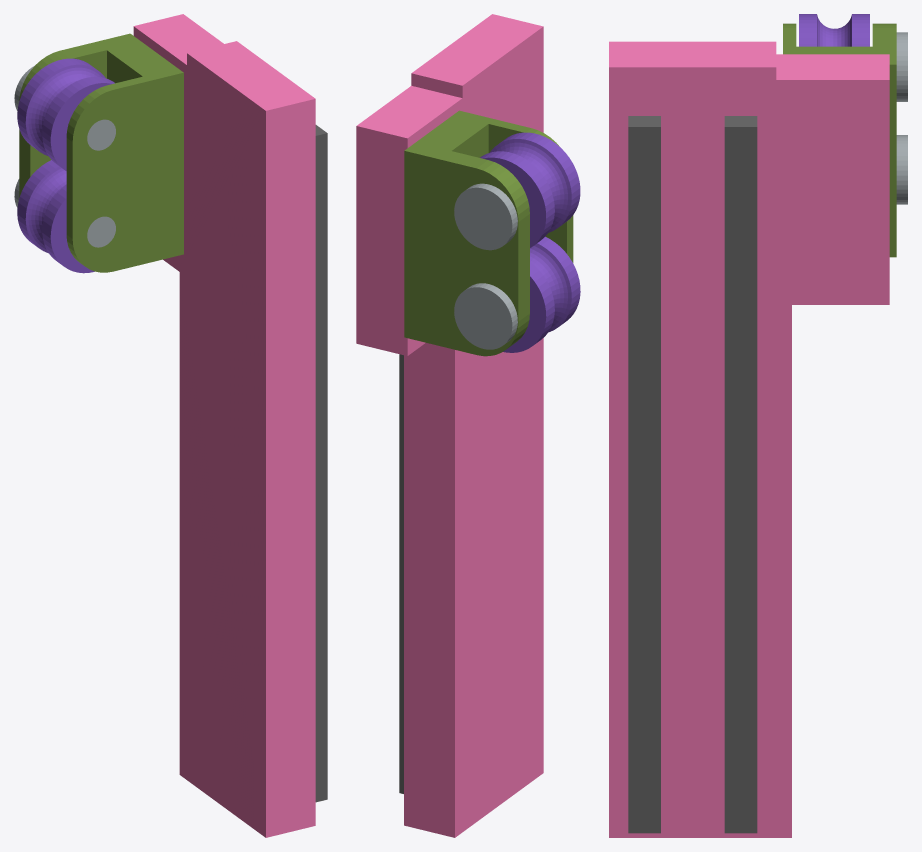
The model's file is dayamam_kizak3.glb.
3 renders of one model, left to right at view 1: azimuth 30°, elevation 25°; view 2: azimuth 150°, elevation 25°; view 3: azimuth 270°, elevation 25°, orthographic. The views are drawn at different scales.
Parts seen in each view (by area): view 1: 03 - 02 - KIZAK TA\X2\015E\X0\IYICI003, 03 - 02 - KIZAK TA\X2\015E\X0\IYICI006, 03 - 22 - ROL\X2\0130\X0\NG - MAKARA-PLAKA-R016, THK 25 -R- RAY005, 03 - 02 - KIZAK TA\X2\015E\X0\IYICI007, 03 - 22 - ROL\X2\0130\X0\NG - MAKARA-PLAKA-R015, 03 - 02 - KIZAK TA\X2\015E\X0\IYICI005, 08 - 03 - AVARE MAKARA - 02 - ROL\X2\0130\X0\NG-\X\C7AP 029, 08 - 03 - AVARE MAKARA - 02 - ROL\X2\0130\X0\NG-\X\C7AP 040, 08 - 03 - AVARE MAKARA - 02 - ROL\X2\0130\X0\NG-\X\C7AP 031, 08 - 03 - AVARE MAKARA - 02 - ROL\X2\0130\X0\NG-\X\C7AP 028, 08 - 03 - AVARE MAKARA - 02 - ROL\X2\0130\X0\NG-\X\C7AP 030 (+8 smaller); view 2: 03 - 02 - KIZAK TA\X2\015E\X0\IYICI003, 03 - 02 - KIZAK TA\X2\015E\X0\IYICI001, 03 - 22 - ROL\X2\0130\X0\NG - MAKARA-PLAKA-R014, 03 - 02 - KIZAK TA\X2\015E\X0\IYICI002, 03 - 02 - KIZAK TA\X2\015E\X0\IYICI007, 02 - 15 - ROL\X2\0130\X0\NG P\X2\0130\X0\M\X2\0130\X0\006, 02 - 15 - ROL\X2\0130\X0\NG P\X2\0130\X0\M\X2\0130\X0\014, 03 - 02 - KIZAK TA\X2\015E\X0\IYICI005, 03 - 22 - ROL\X2\0130\X0\NG - MAKARA-PLAKA-R015, 08 - 03 - AVARE MAKARA - 02 - ROL\X2\0130\X0\NG-\X\C7AP 029, THK 25 -R- RAY008, 08 - 03 - AVARE MAKARA - 02 - ROL\X2\0130\X0\NG-\X\C7AP 040 (+13 smaller); view 3: 03 - 02 - KIZAK TA\X2\015E\X0\IYICI008, THK 25 -R- RAY011, THK 25 -R- RAY004, 03 - 02 - KIZAK TA\X2\015E\X0\IYICI007, 03 - 02 - KIZAK TA\X2\015E\X0\IYICI005, 03 - 22 - ROL\X2\0130\X0\NG - MAKARA-PLAKA-R015, 03 - 22 - ROL\X2\0130\X0\NG - MAKARA-PLAKA-R018, 02 - 15 - ROL\X2\0130\X0\NG P\X2\0130\X0\M\X2\0130\X0\005, 02 - 15 - ROL\X2\0130\X0\NG P\X2\0130\X0\M\X2\0130\X0\013, 08 - 03 - AVARE MAKARA - 02 - ROL\X2\0130\X0\NG-\X\C7AP 029, 08 - 03 - AVARE MAKARA - 02 - ROL\X2\0130\X0\NG-\X\C7AP 028, 08 - 03 - AVARE MAKARA - 02 - ROL\X2\0130\X0\NG-\X\C7AP 030.
Boxes of the visible parts, box(x1,y1,x2,y2) form: 03 - 02 - KIZAK TA\X2\015E\X0\IYICI003: box(133, 26, 265, 837); 03 - 02 - KIZAK TA\X2\015E\X0\IYICI006: box(266, 99, 315, 837); 03 - 22 - ROL\X2\0130\X0\NG - MAKARA-PLAKA-R016: box(72, 72, 183, 272); THK 25 -R- RAY005: box(315, 133, 327, 802); 03 - 02 - KIZAK TA\X2\015E\X0\IYICI007: box(187, 41, 315, 110); 03 - 22 - ROL\X2\0130\X0\NG - MAKARA-PLAKA-R015: box(60, 33, 183, 89); 03 - 02 - KIZAK TA\X2\015E\X0\IYICI005: box(134, 14, 223, 64); 08 - 03 - AVARE MAKARA - 02 - ROL\X2\0130\X0\NG-\X\C7AP 029: box(25, 64, 105, 156); 08 - 03 - AVARE MAKARA - 02 - ROL\X2\0130\X0\NG-\X\C7AP 040: box(25, 166, 66, 253); 08 - 03 - AVARE MAKARA - 02 - ROL\X2\0130\X0\NG-\X\C7AP 031: box(50, 83, 111, 170); 08 - 03 - AVARE MAKARA - 02 - ROL\X2\0130\X0\NG-\X\C7AP 028: box(17, 58, 95, 150); 08 - 03 - AVARE MAKARA - 02 - ROL\X2\0130\X0\NG-\X\C7AP 030: box(42, 77, 114, 168); 03 - 02 - KIZAK TA\X2\015E\X0\IYICI003: box(407, 26, 543, 837); 03 - 02 - KIZAK TA\X2\015E\X0\IYICI001: box(404, 343, 454, 837); 03 - 22 - ROL\X2\0130\X0\NG - MAKARA-PLAKA-R014: box(404, 151, 518, 356); 03 - 02 - KIZAK TA\X2\015E\X0\IYICI002: box(356, 126, 407, 355); 03 - 02 - KIZAK TA\X2\015E\X0\IYICI007: box(412, 14, 543, 85); 02 - 15 - ROL\X2\0130\X0\NG P\X2\0130\X0\M\X2\0130\X0\006: box(454, 287, 512, 349); 02 - 15 - ROL\X2\0130\X0\NG P\X2\0130\X0\M\X2\0130\X0\014: box(454, 187, 512, 250); 03 - 02 - KIZAK TA\X2\015E\X0\IYICI005: box(357, 86, 461, 138); 03 - 22 - ROL\X2\0130\X0\NG - MAKARA-PLAKA-R015: box(404, 110, 531, 168); 08 - 03 - AVARE MAKARA - 02 - ROL\X2\0130\X0\NG-\X\C7AP 029: box(490, 139, 571, 232); THK 25 -R- RAY008: box(399, 354, 403, 793); 08 - 03 - AVARE MAKARA - 02 - ROL\X2\0130\X0\NG-\X\C7AP 040: box(530, 243, 571, 332); 03 - 02 - KIZAK TA\X2\015E\X0\IYICI008: box(609, 67, 889, 837); THK 25 -R- RAY011: box(724, 127, 757, 833); THK 25 -R- RAY004: box(628, 127, 660, 833); 03 - 02 - KIZAK TA\X2\015E\X0\IYICI007: box(609, 41, 776, 67); 03 - 02 - KIZAK TA\X2\015E\X0\IYICI005: box(776, 54, 889, 79); 03 - 22 - ROL\X2\0130\X0\NG - MAKARA-PLAKA-R015: box(783, 28, 896, 64); 03 - 22 - ROL\X2\0130\X0\NG - MAKARA-PLAKA-R018: box(889, 64, 896, 257); 02 - 15 - ROL\X2\0130\X0\NG P\X2\0130\X0\M\X2\0130\X0\005: box(896, 135, 907, 204); 02 - 15 - ROL\X2\0130\X0\NG P\X2\0130\X0\M\X2\0130\X0\013: box(896, 32, 907, 101); 08 - 03 - AVARE MAKARA - 02 - ROL\X2\0130\X0\NG-\X\C7AP 029: box(817, 15, 851, 46); 08 - 03 - AVARE MAKARA - 02 - ROL\X2\0130\X0\NG-\X\C7AP 028: box(852, 14, 869, 46); 08 - 03 - AVARE MAKARA - 02 - ROL\X2\0130\X0\NG-\X\C7AP 030: box(799, 14, 816, 46).
Bounding box in the file's own units: 0.1695 × 0.6 × 0.2108.
